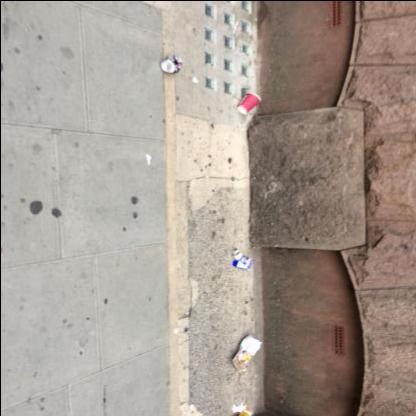Can: (160, 54, 182, 72)
Cup: (237, 92, 261, 114)
Plastic bag - wrapper: (231, 334, 262, 370)
Unlabeled litter: (231, 251, 253, 268), (232, 401, 246, 412), (235, 408, 252, 416)
